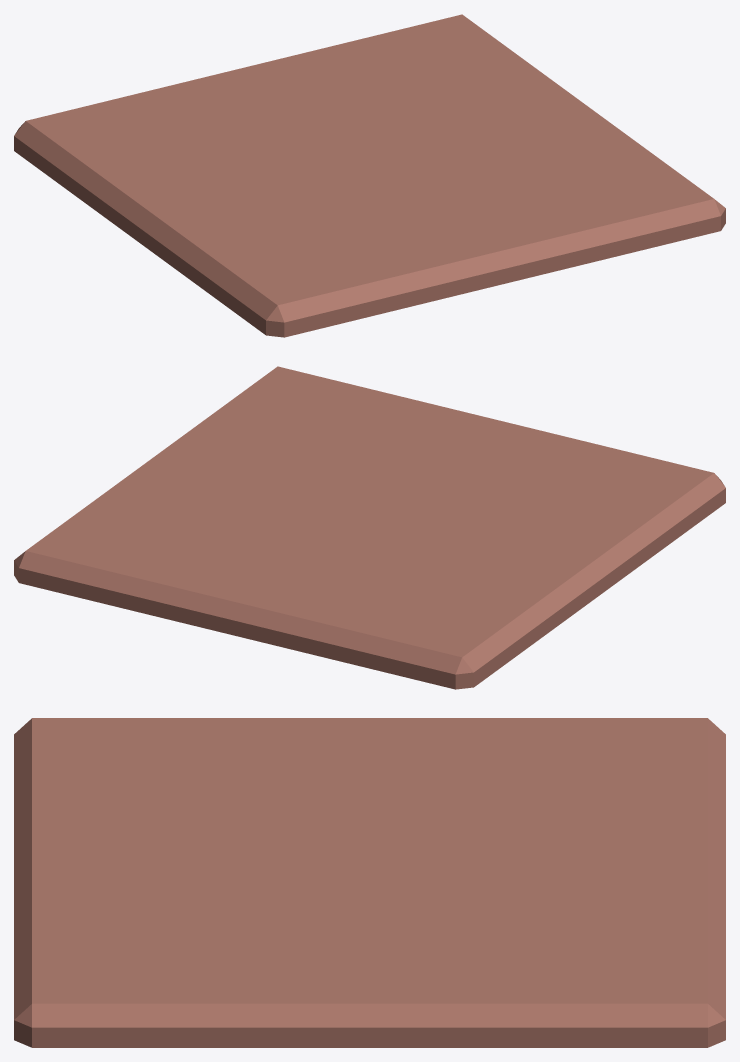
File: MDL_plot_01.fbx
3 renders of one model, top to bottom at view 1: azimuth 30°, elevation 25°; view 2: azimuth 150°, elevation 25°; view 3: azimuth 270°, elevation 25°, orthographic. The views are drawn at different scales.
Visible parts, largest first — view 1: MDL_plot_01; view 2: MDL_plot_01; view 3: MDL_plot_01.
Boxes of the visible parts, x1=… form: MDL_plot_01: x1=14, y1=14, x2=725, y2=337; MDL_plot_01: x1=14, y1=366, x2=725, y2=689; MDL_plot_01: x1=14, y1=718, x2=725, y2=1047.
Size of the model in its own units: 121 by 6.83 by 121.
